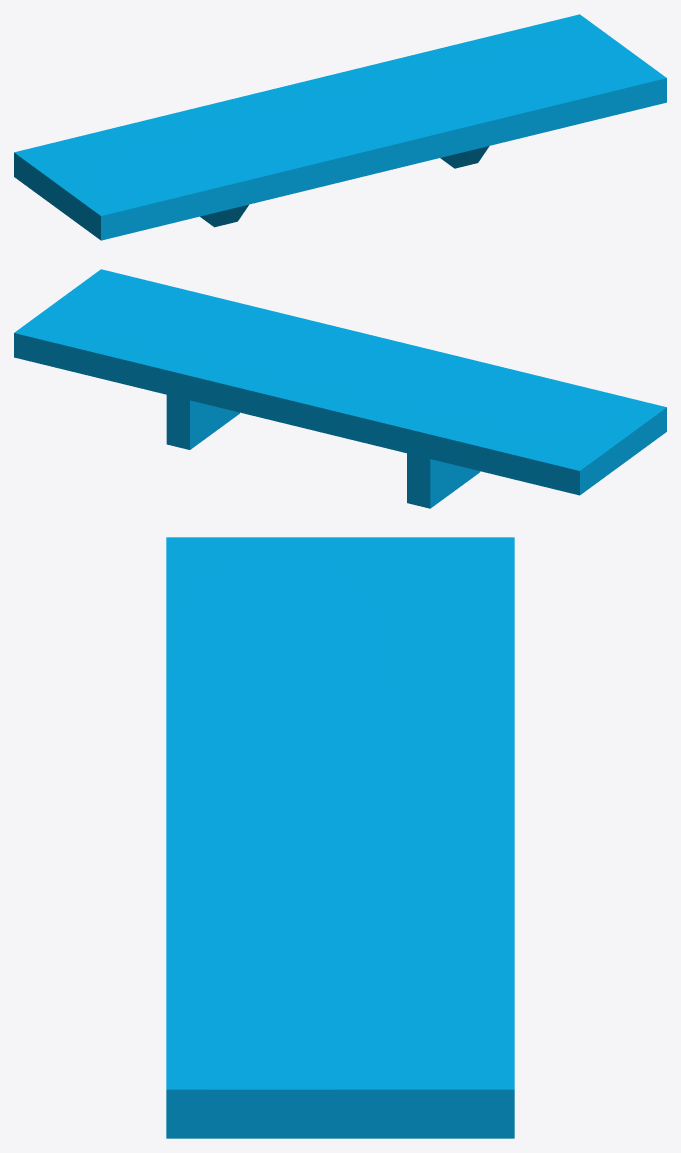
Rendered from shelf_023.glb.
3 views of the same model, one above another, from view 1: azimuth 30°, elevation 25°; view 2: azimuth 150°, elevation 25°; view 3: azimuth 270°, elevation 25° (orthographic). The views are drawn at different scales.
Visible parts, largest first — view 1: shelf_023; view 2: shelf_023; view 3: shelf_023.
Part boxes in pixels (left/top/right/bottom): shelf_023: left=14, top=14, right=666, bottom=240; shelf_023: left=14, top=269, right=666, bottom=508; shelf_023: left=166, top=537, right=514, bottom=1138.
Size of the model in its own units: 0.7501 by 0.0948 by 0.2.
1 material, 1 textured.
